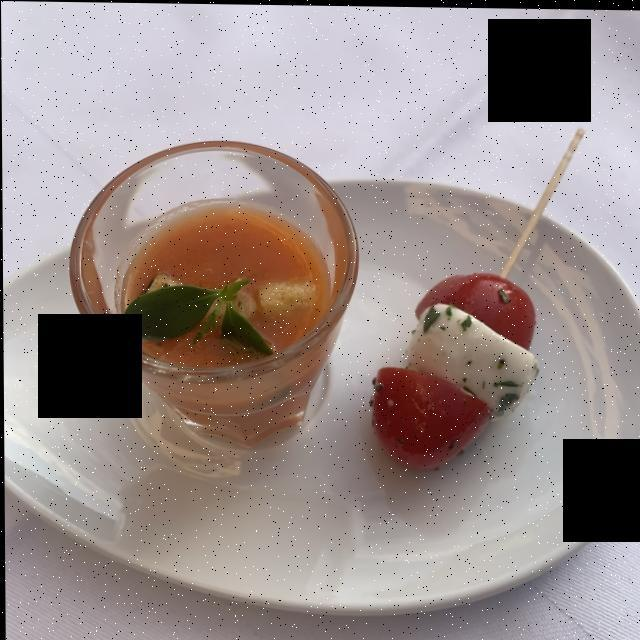basil: (115, 276, 268, 348)
cheese: (396, 294, 541, 420)
tomato: (373, 271, 540, 470)
